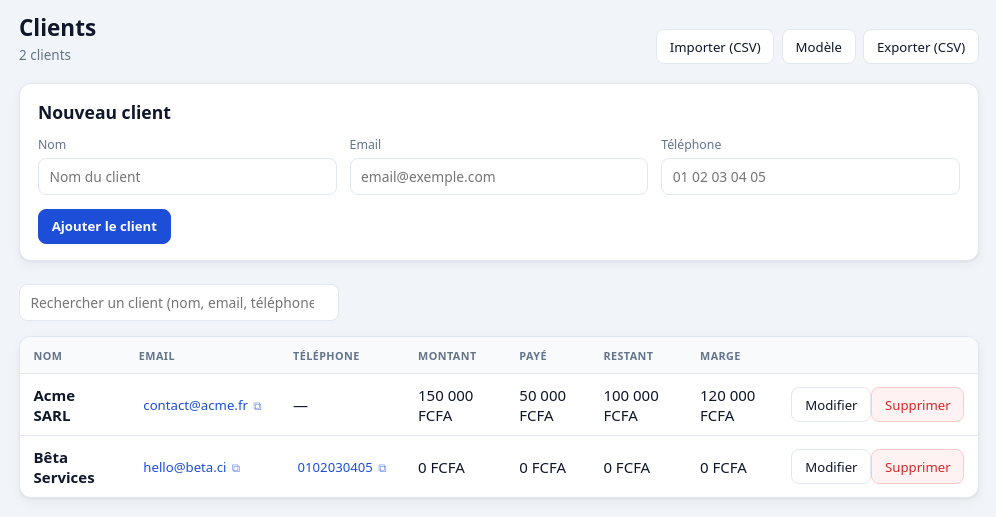
Test: ClientsPage › filtre les clients via la barre de recherche
The image size is (996, 517).
Expected: the text "Acme SARL" is shown, [20,374,125,436]
Expected: the text "Bêta Services" is shown, [20,436,125,497]
// Recherche insensible aux accents : "beta" doit trouver "Bêta".
Type "beta" into the search field with placeholder "Rechercher un client (nom, email, téléphone)…" at (179, 303), box [19,284,339,321]
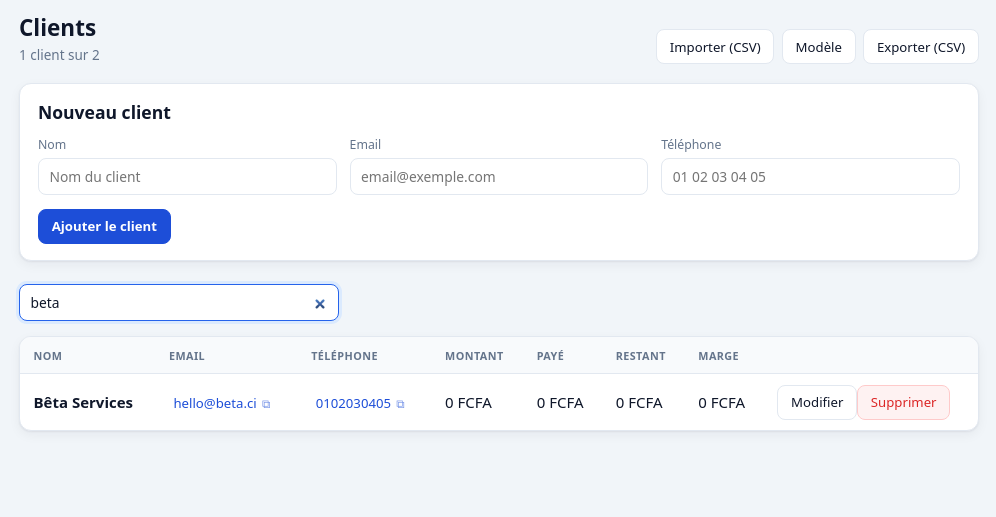
Expected: the text "Bêta Services" is shown, [20,374,156,430]
Now the text "Acme SARL" is gone
